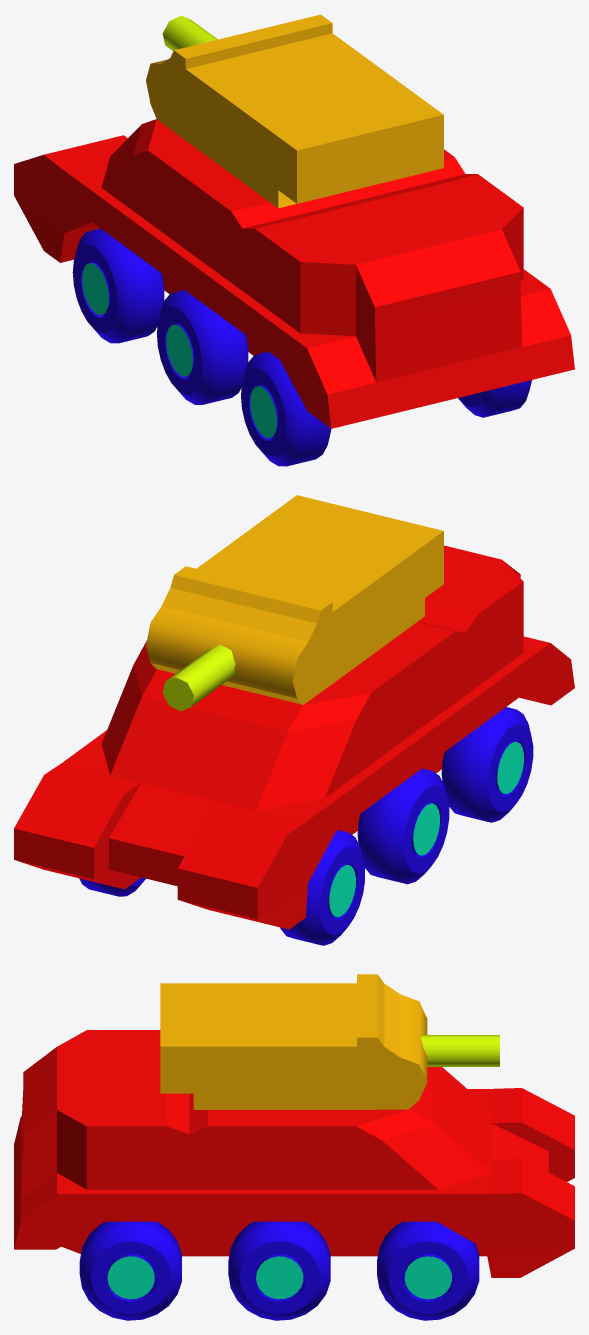
3 renders of one model, top to bottom at view 1: azimuth 30°, elevation 25°; view 2: azimuth 150°, elevation 25°; view 3: azimuth 270°, elevation 25°, orthographic. The views are drawn at different scales.
Parts seen in each view (by area): view 1: Body, Turret, Wheel (×4), Canon; view 2: Body, Turret, Wheel (×4), Canon; view 3: Body, Turret, Wheel (×3), Canon.
Boxes of the visible parts, left/top/right/bottom form: Body: left=14, top=119, right=574, bottom=428; Turret: left=146, top=14, right=443, bottom=208; Wheel (×4): left=72, top=228, right=531, bottom=466; Canon: left=162, top=15, right=217, bottom=51; Body: left=14, top=545, right=574, bottom=929; Turret: left=146, top=495, right=443, bottom=704; Wheel (×4): left=79, top=707, right=533, bottom=945; Canon: left=162, top=644, right=235, bottom=711; Body: left=14, top=1030, right=574, bottom=1277; Turret: left=160, top=974, right=427, bottom=1109; Wheel (×3): left=79, top=1221, right=479, bottom=1320; Canon: left=421, top=1035, right=499, bottom=1066.
Bounding box in the file's own units: 2.02 × 2.34 × 4.49.
